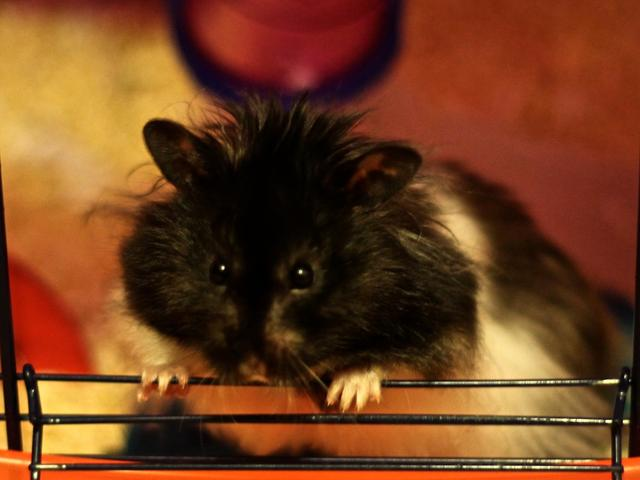mouse: (89, 100, 559, 413)
